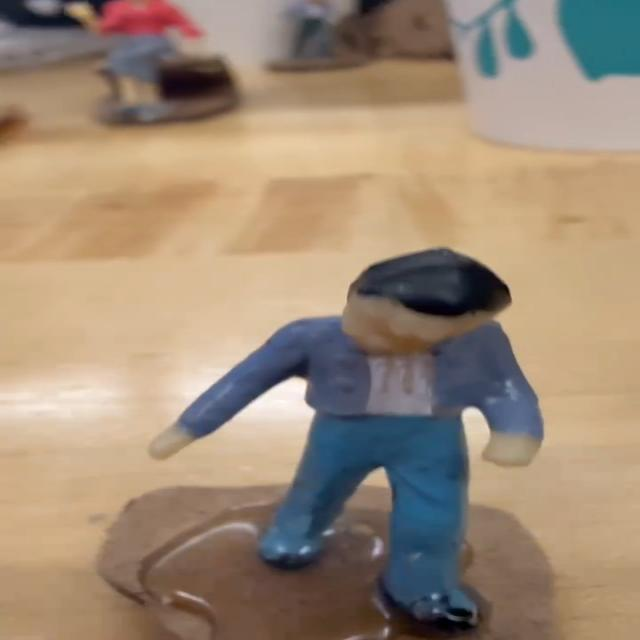Authorized: (142, 234, 640, 640)
